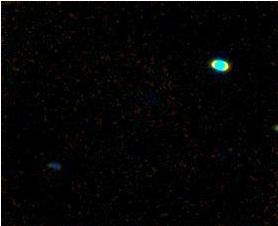star: (195, 7, 225, 37)
